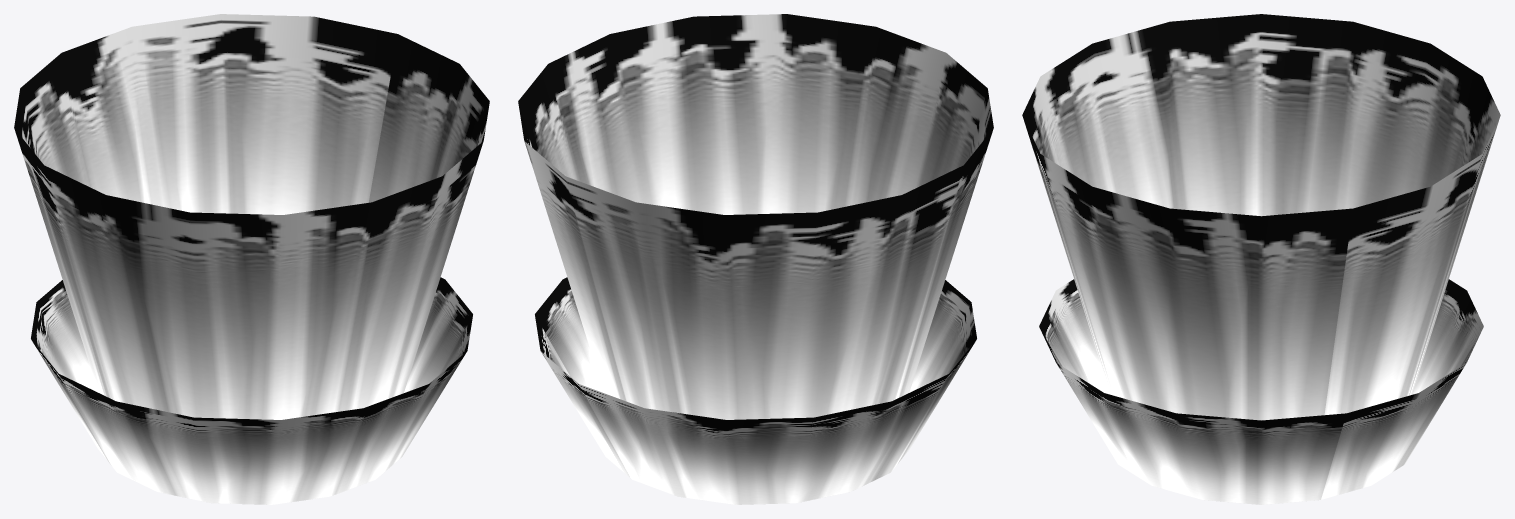
Rendered from FX_PowerUp_Aura.fbx.
The picture shows the model from 3 angles, left to right: view 1: azimuth 30°, elevation 25°; view 2: azimuth 150°, elevation 25°; view 3: azimuth 270°, elevation 25°; orthographic projection.
Visible parts, largest first — view 1: polySurface10; view 2: polySurface10; view 3: polySurface10.
Part boxes in pixels (x1,y1,x2,y2): polySurface10: [14, 14, 489, 504]; polySurface10: [518, 14, 993, 504]; polySurface10: [1022, 14, 1500, 504].
Size of the model in its own units: 5.97 by 4.47 by 5.97.
Materials: 1 (1 with a texture image).
